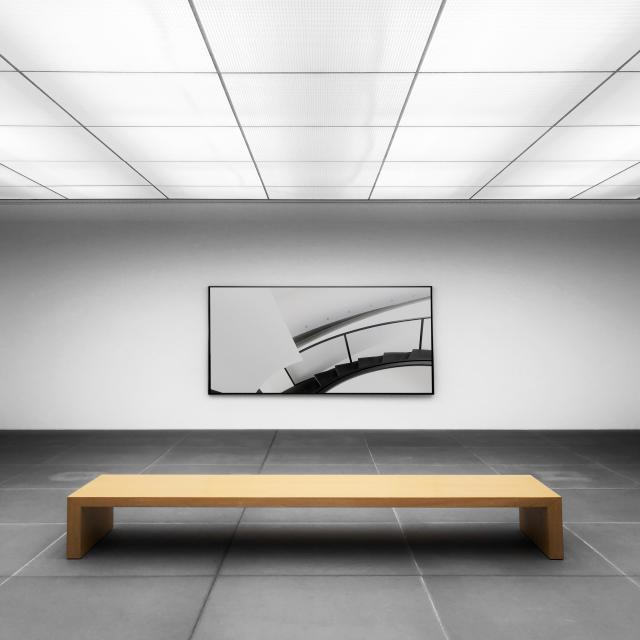floor: (0, 429, 640, 640)
